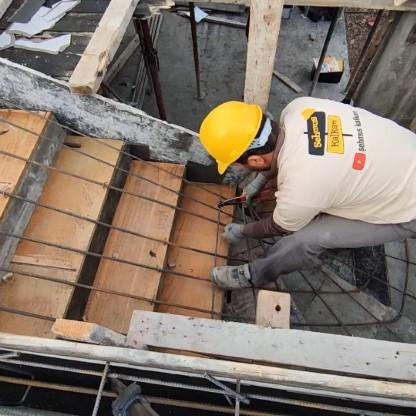helmet: (191, 86, 281, 182)
